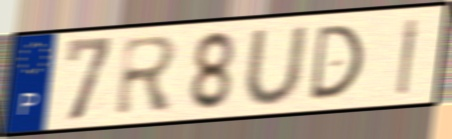7: (64, 34, 114, 124)
8: (188, 29, 240, 113)
D: (306, 21, 367, 104)
I: (394, 16, 423, 98)
R: (113, 32, 181, 119)
U: (242, 22, 311, 107)
